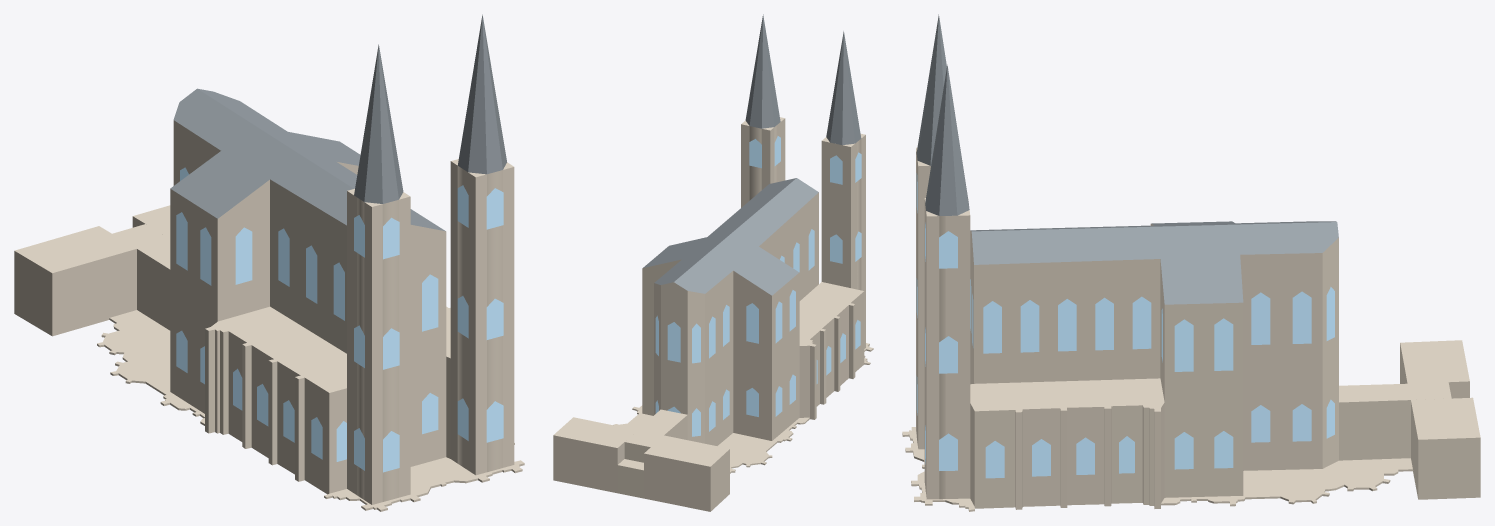
The picture shows the model from 3 angles, left to right: view 1: azimuth 30°, elevation 25°; view 2: azimuth 150°, elevation 25°; view 3: azimuth 270°, elevation 25°; orthographic projection. The views are drawn at different scales.
Parts seen in each view (by area): view 1: stone, roof, window; view 2: stone, roof, window; view 3: stone, roof, window.
Part boxes in pixels (<box>): stone: <box>14,120,524,511</box>; roof: <box>170,14,506,231</box>; window: <box>176,167,503,472</box>; stone: <box>553,117,873,511</box>; roof: <box>643,14,861,295</box>; window: <box>655,136,861,436</box>; stone: <box>902,147,1480,511</box>; roof: <box>916,14,1338,304</box>; window: <box>916,173,1334,478</box>.
Size of the model in its own units: 31.97 by 57 by 69.88.
